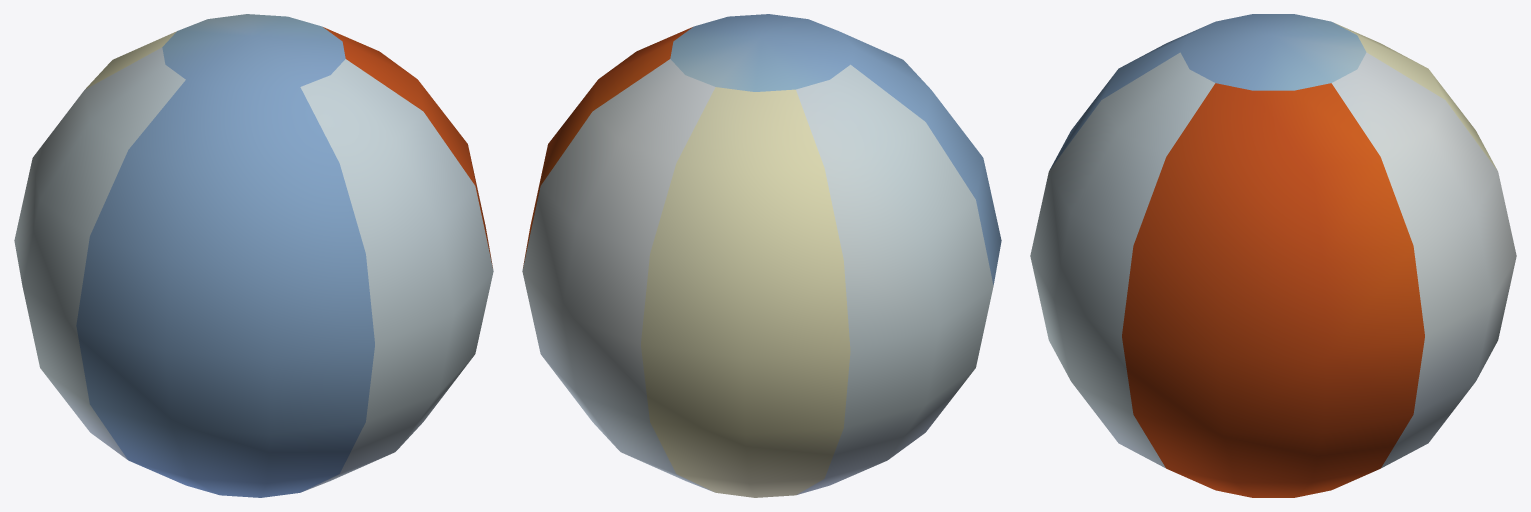
Rendered from ballon.glb.
3 renders of one model, left to right at view 1: azimuth 30°, elevation 25°; view 2: azimuth 150°, elevation 25°; view 3: azimuth 270°, elevation 25°, orthographic.
Parts seen in each view (by area): view 1: ballon; view 2: ballon; view 3: ballon.
Boxes of the visible parts, x1,y1,x2,y2 form: ballon: [14, 14, 493, 497]; ballon: [522, 14, 1001, 497]; ballon: [1030, 14, 1516, 497].
Bounding box in the file's own units: 0.4827 × 0.4952 × 0.4952.
